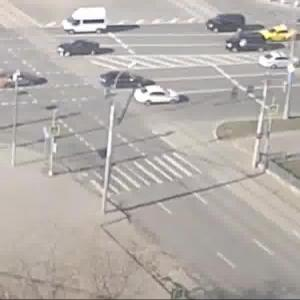car: (59, 4, 109, 36), (126, 85, 183, 108), (1, 67, 48, 92), (101, 72, 144, 92), (257, 50, 300, 68), (60, 41, 99, 60), (225, 35, 262, 53), (213, 16, 246, 36), (260, 26, 294, 42)
